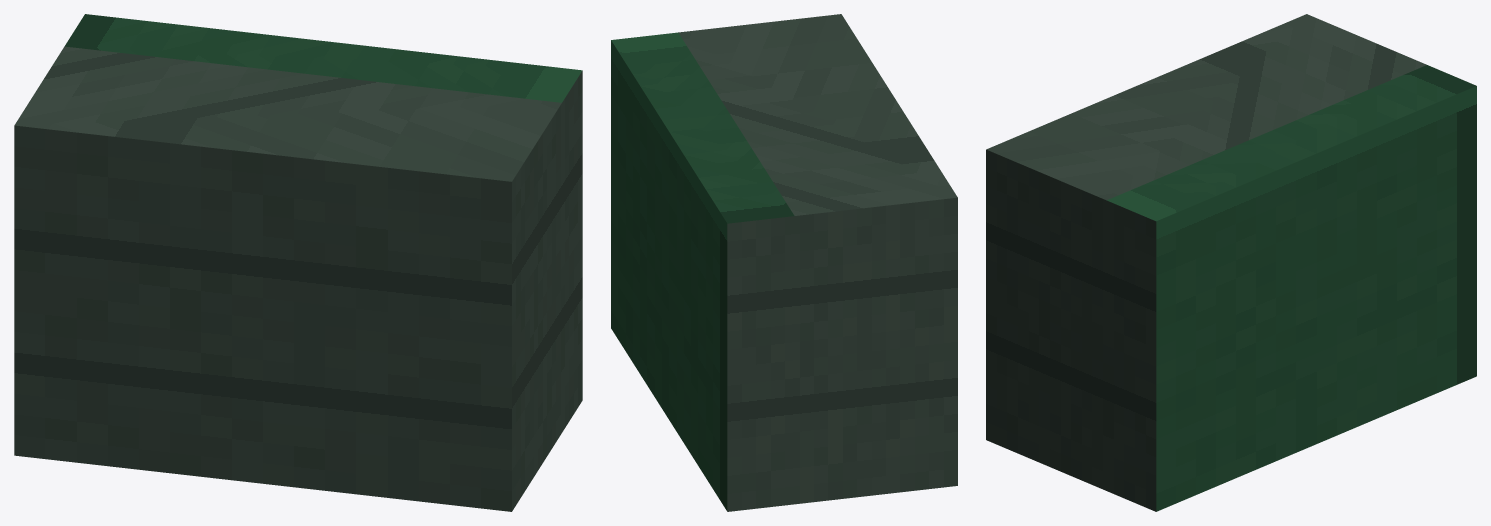
File: wall_diagonal.obj
3 views of the same model, side by side, from view 1: azimuth 30°, elevation 25°; view 2: azimuth 150°, elevation 25°; view 3: azimuth 270°, elevation 25° (orthographic). The views are drawn at different scales.
Parts seen in each view (by area): view 1: wall_diagonal; view 2: wall_diagonal; view 3: wall_diagonal.
Boxes of the visible parts, x1,y1,x2,y2 form: wall_diagonal: (14,14,582,511); wall_diagonal: (611,14,957,511); wall_diagonal: (986,14,1476,511).
Bounding box in the file's own units: 1.53 × 1 × 1.53.
